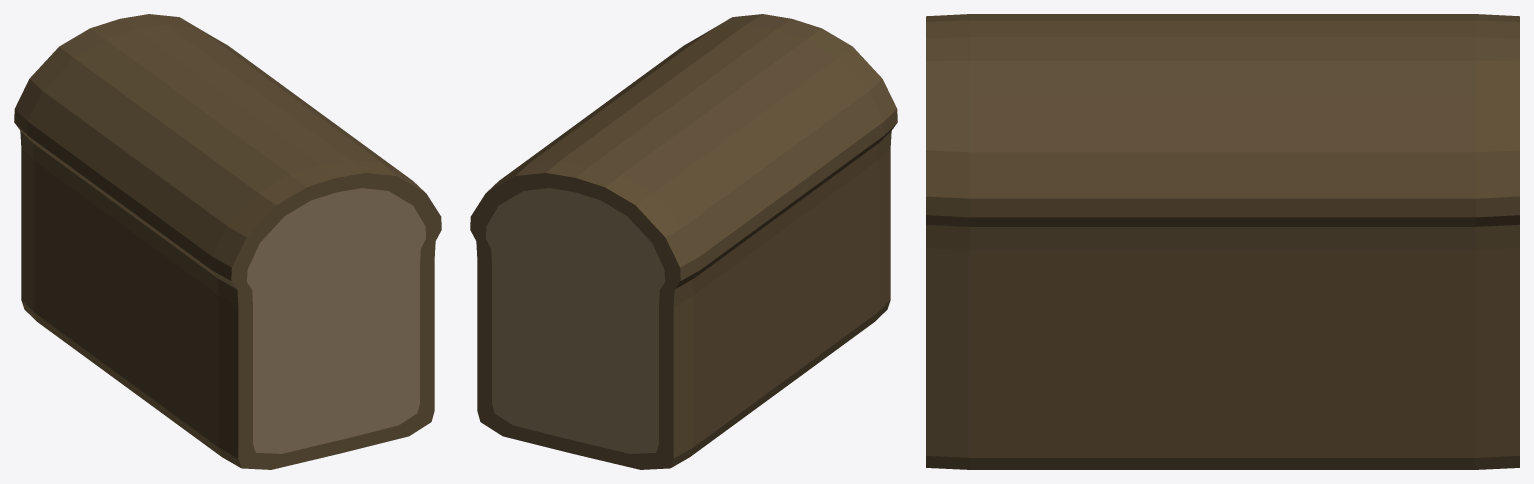
File: food-Bread.glb
3 renders of one model, left to right at view 1: azimuth 30°, elevation 25°; view 2: azimuth 150°, elevation 25°; view 3: azimuth 270°, elevation 25°, orthographic. The views are drawn at different scales.
Visible parts, largest first — view 1: Bread; view 2: Bread; view 3: Bread.
Part boxes in pixels (x1,y1,x2,y2): Bread: (14, 14, 441, 469); Bread: (470, 14, 897, 469); Bread: (926, 14, 1519, 469).
Bounding box in the file's own units: 0.6933 × 0.847 × 1.2.
